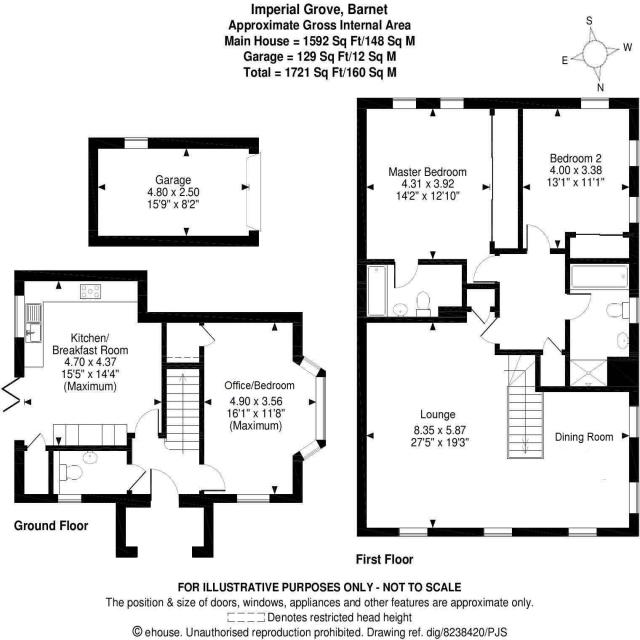DOOR: (149, 467, 180, 508), (392, 259, 420, 289), (472, 254, 500, 283), (565, 292, 592, 321), (199, 463, 226, 492), (525, 224, 551, 254), (134, 408, 159, 438), (478, 316, 500, 345), (127, 463, 147, 492), (199, 325, 216, 347)
FOLDING DOOR: (0, 370, 25, 441)
ROOM: (357, 284, 640, 537), (356, 97, 523, 290), (0, 270, 167, 451), (199, 312, 327, 508), (518, 98, 639, 264)
WINDOW: (298, 355, 327, 461), (14, 295, 25, 338), (628, 405, 640, 439), (628, 481, 640, 515), (236, 493, 270, 504), (568, 527, 598, 538), (581, 98, 609, 109), (483, 527, 513, 537), (398, 527, 428, 537), (392, 97, 417, 109), (629, 297, 640, 324), (440, 97, 464, 109), (57, 493, 82, 504), (629, 140, 639, 167), (629, 196, 639, 223)
